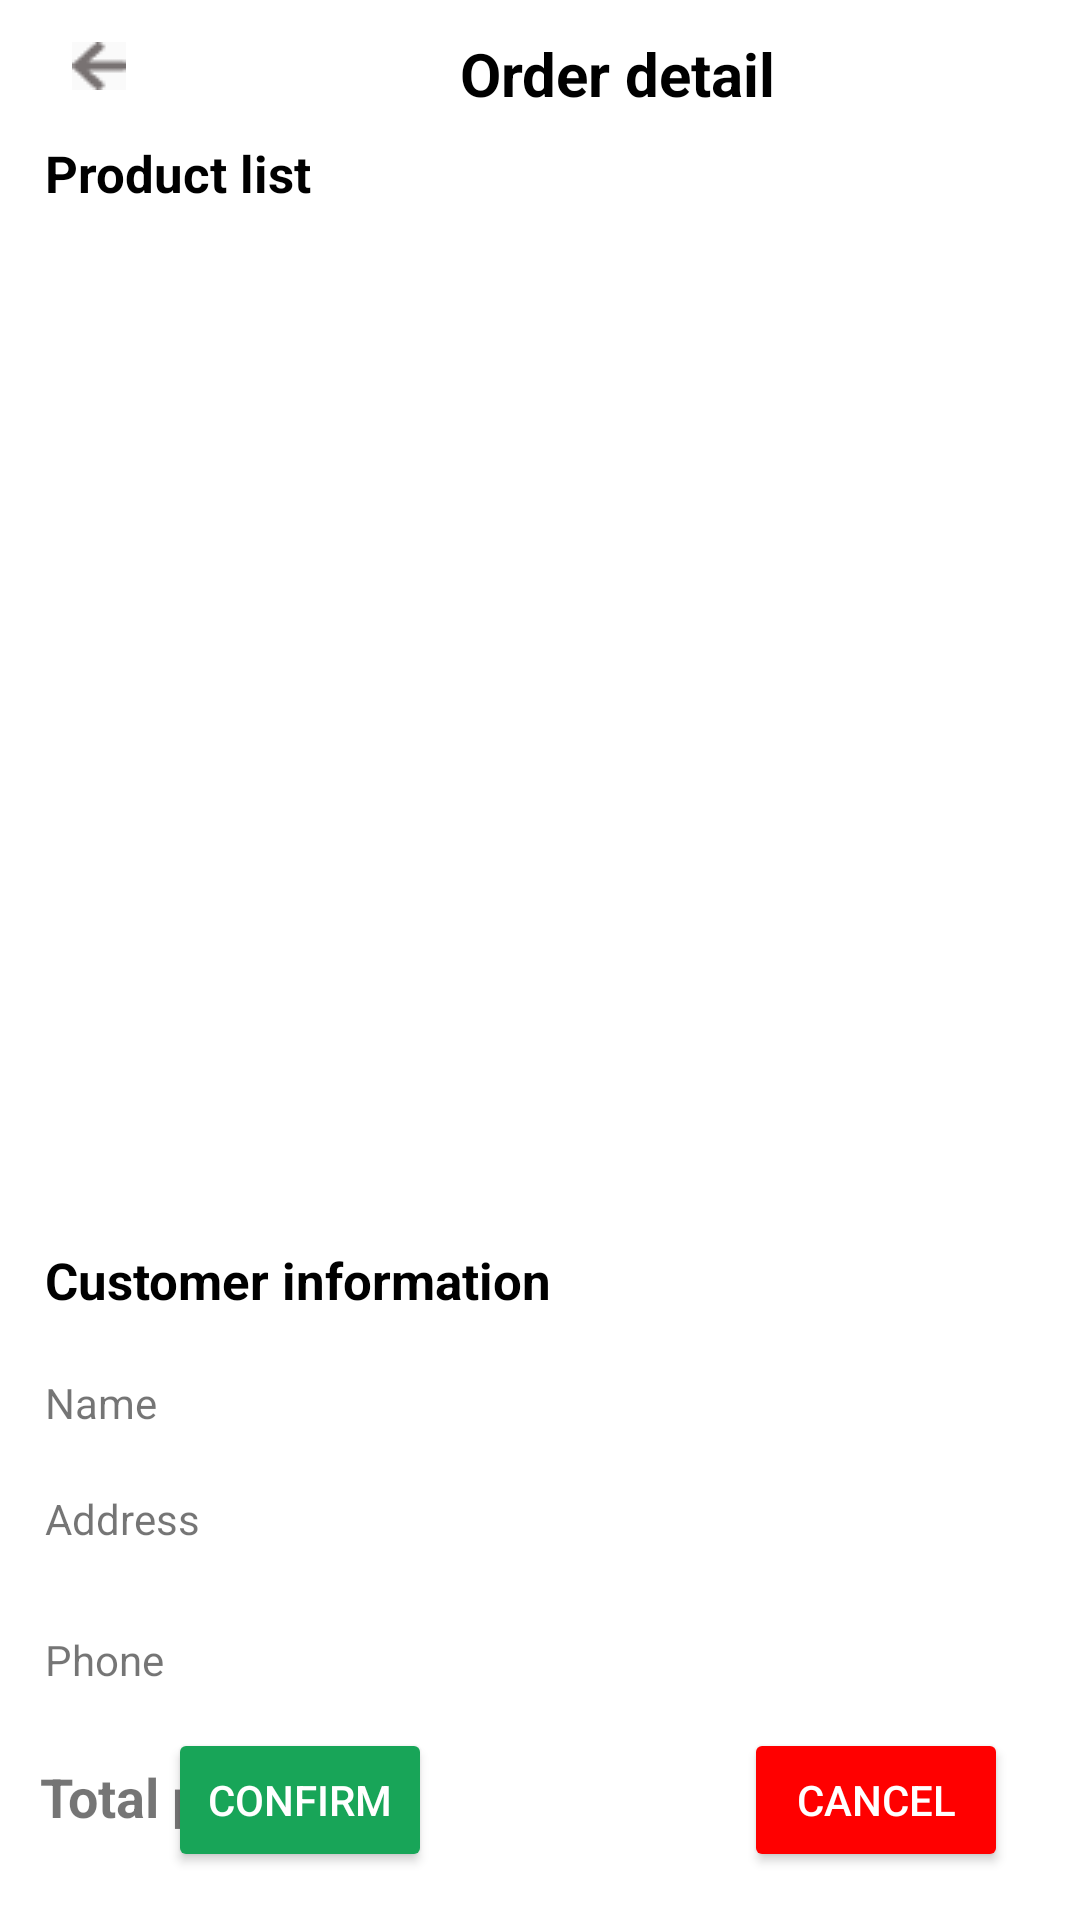

Point at icon controls on the screen. Image size 1080 x 1920, points as [x,y].
back: [99,66]
